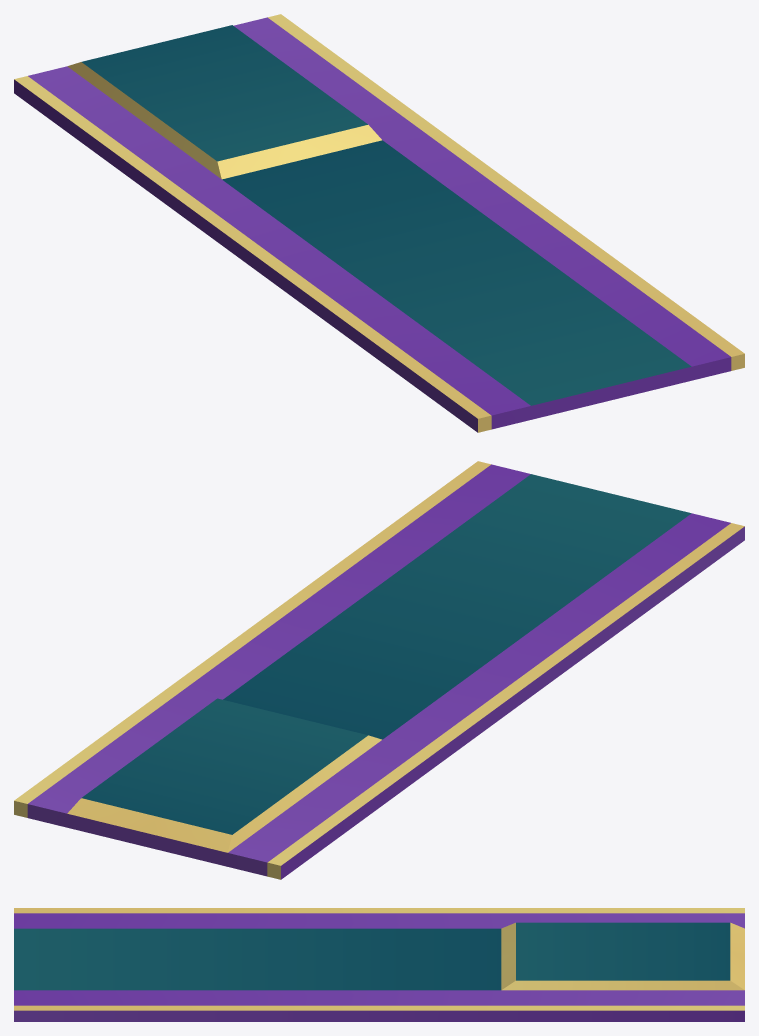
Rendered from ENV_End_Straight.fbx.
3 views of the same model, one above another, from view 1: azimuth 30°, elevation 25°; view 2: azimuth 150°, elevation 25°; view 3: azimuth 270°, elevation 25° (orthographic). The views are drawn at different scales.
Visible parts, largest first — view 1: ENV_End_Straight; view 2: ENV_End_Straight; view 3: ENV_End_Straight.
Part boxes in pixels (<box>): ENV_End_Straight: <box>14,14,744,432</box>; ENV_End_Straight: <box>14,461,744,879</box>; ENV_End_Straight: <box>14,908,744,1021</box>.
Size of the model in its own units: 9.97 by 0.8563 by 30.
